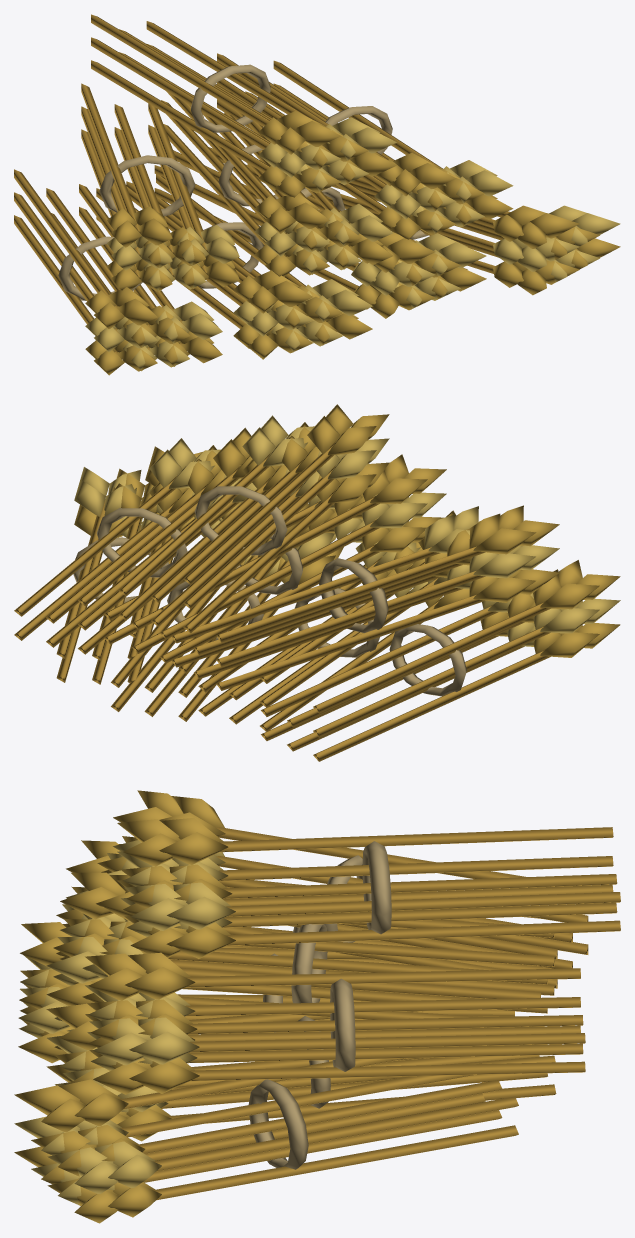
Rendered from pile-wheat-8.gltf.
3 views of the same model, one above another, from view 1: azimuth 30°, elevation 25°; view 2: azimuth 150°, elevation 25°; view 3: azimuth 270°, elevation 25° (orthographic). The views are drawn at different scales.
Parts seen in each view (by area): view 1: pile-wheat-8; view 2: pile-wheat-8; view 3: pile-wheat-8.
Part boxes in pixels (box(x1,y1,x2,y2)): pile-wheat-8: box(14, 14, 620, 375); pile-wheat-8: box(14, 404, 620, 761); pile-wheat-8: box(14, 790, 620, 1223).
Size of the model in its own units: 0.7706 by 0.2718 by 0.6287.
